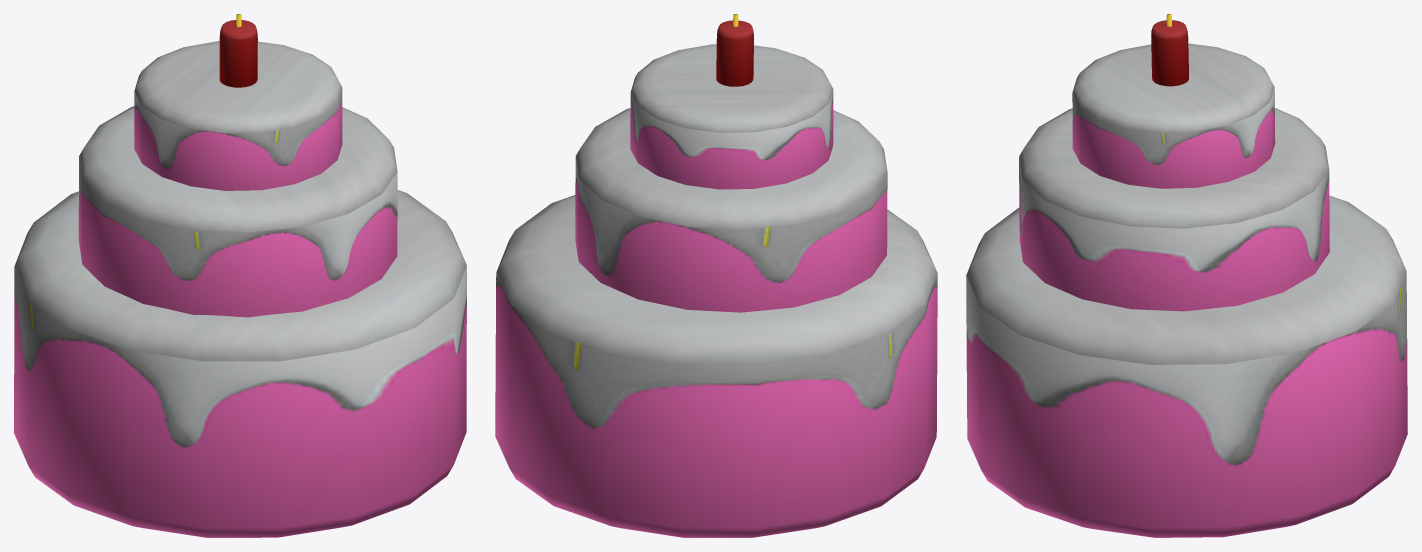
The model's file is pink_pie.glb.
The picture shows the model from 3 angles, left to right: view 1: azimuth 30°, elevation 25°; view 2: azimuth 150°, elevation 25°; view 3: azimuth 270°, elevation 25°; orthographic projection. The views are drawn at different scales.
Visible parts, largest first — view 1: pink_pie; view 2: pink_pie; view 3: pink_pie.
Boxes of the visible parts, x1=… form: pink_pie: x1=14, y1=14, x2=466, y2=537; pink_pie: x1=495, y1=14, x2=937, y2=537; pink_pie: x1=966, y1=14, x2=1407, y2=537.
Bounding box in the file's own units: 0.7008 × 0.783 × 0.7111.
1 material, 1 textured.
